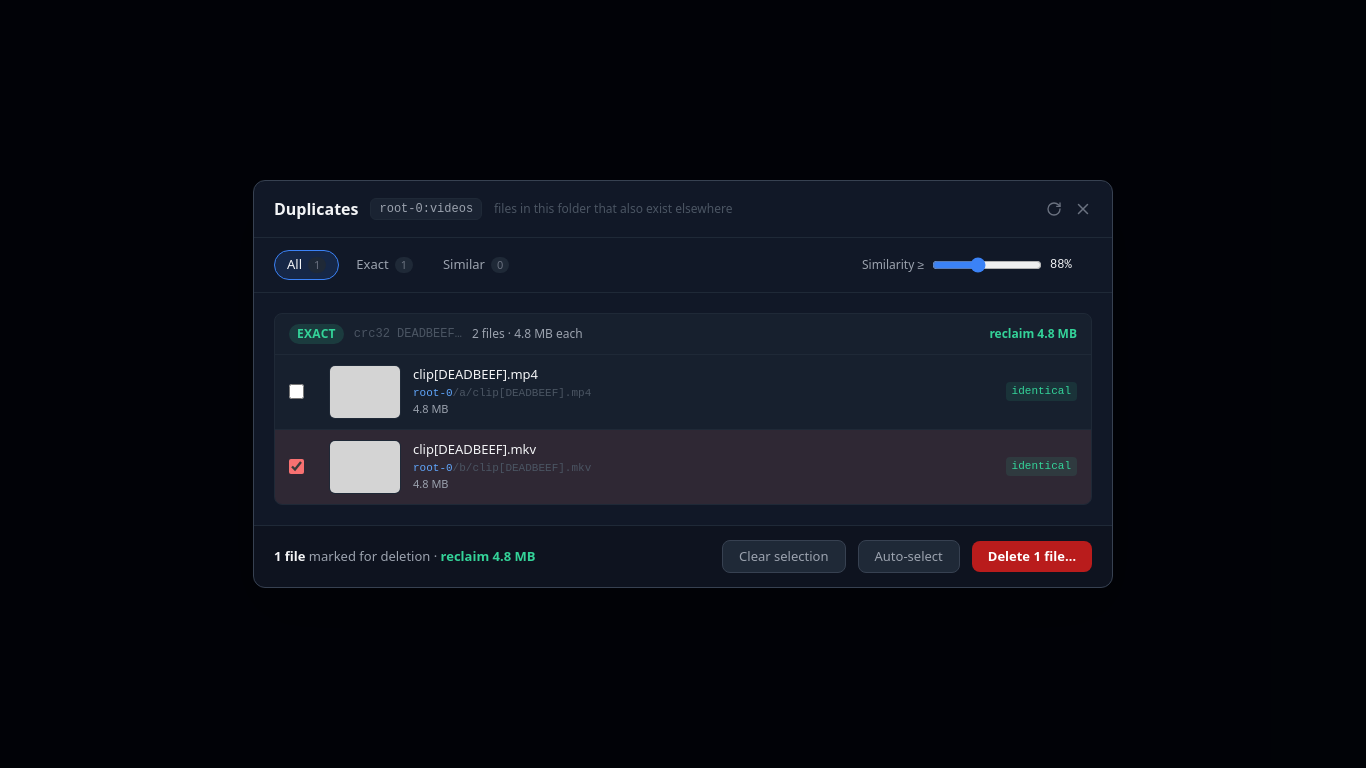
DuplicatesModal › shows CRC32 video groups under the Exact tab
Expected: the text "clip[DEADBEEF].mp4" is shown, x1=413 y1=365 x2=538 y2=383
Click the button "Exact 1": x=385, y=265 x1=343 y1=250 x2=426 y2=280
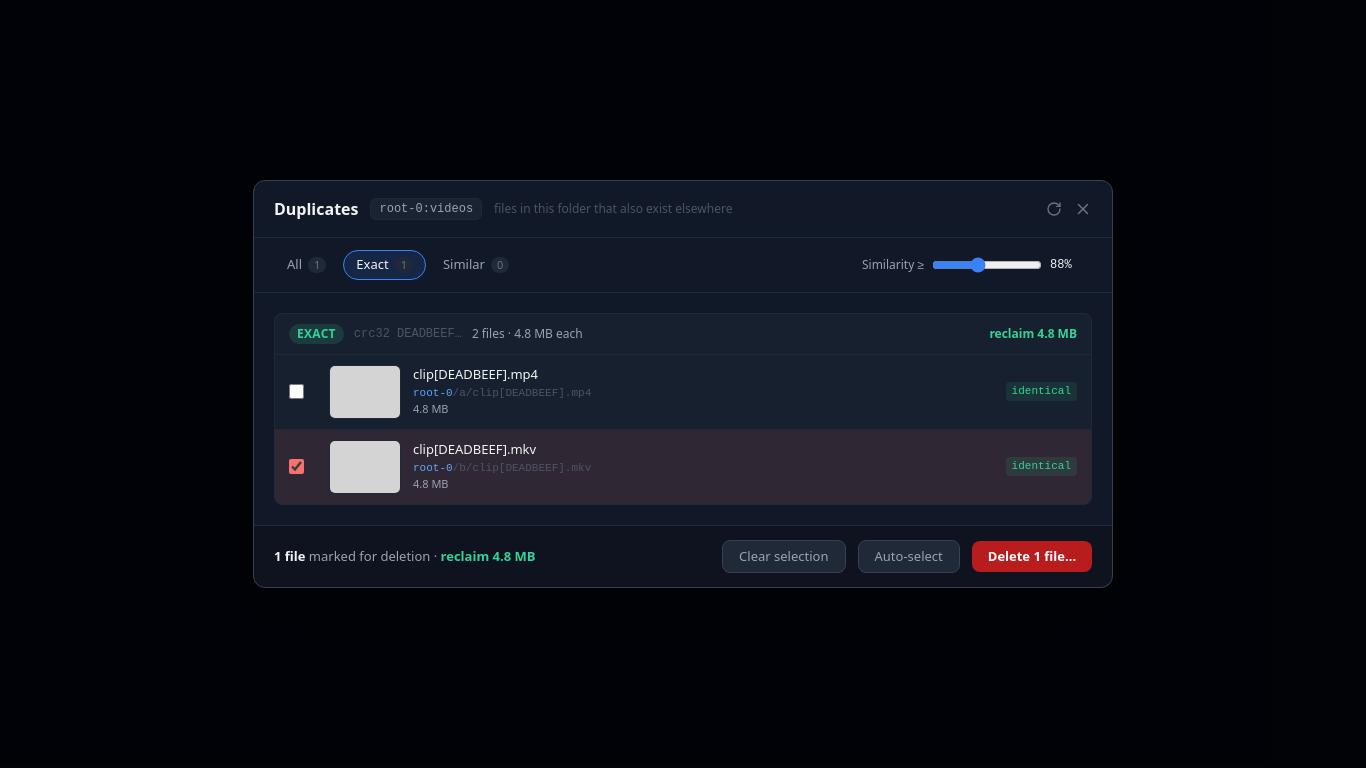
Expected: the text "clip[DEADBEEF].mp4" is shown, x1=413 y1=365 x2=538 y2=383
# Hidden under Similar.
Click the button "Similar 0": x=476, y=265 x1=430 y1=250 x2=522 y2=280
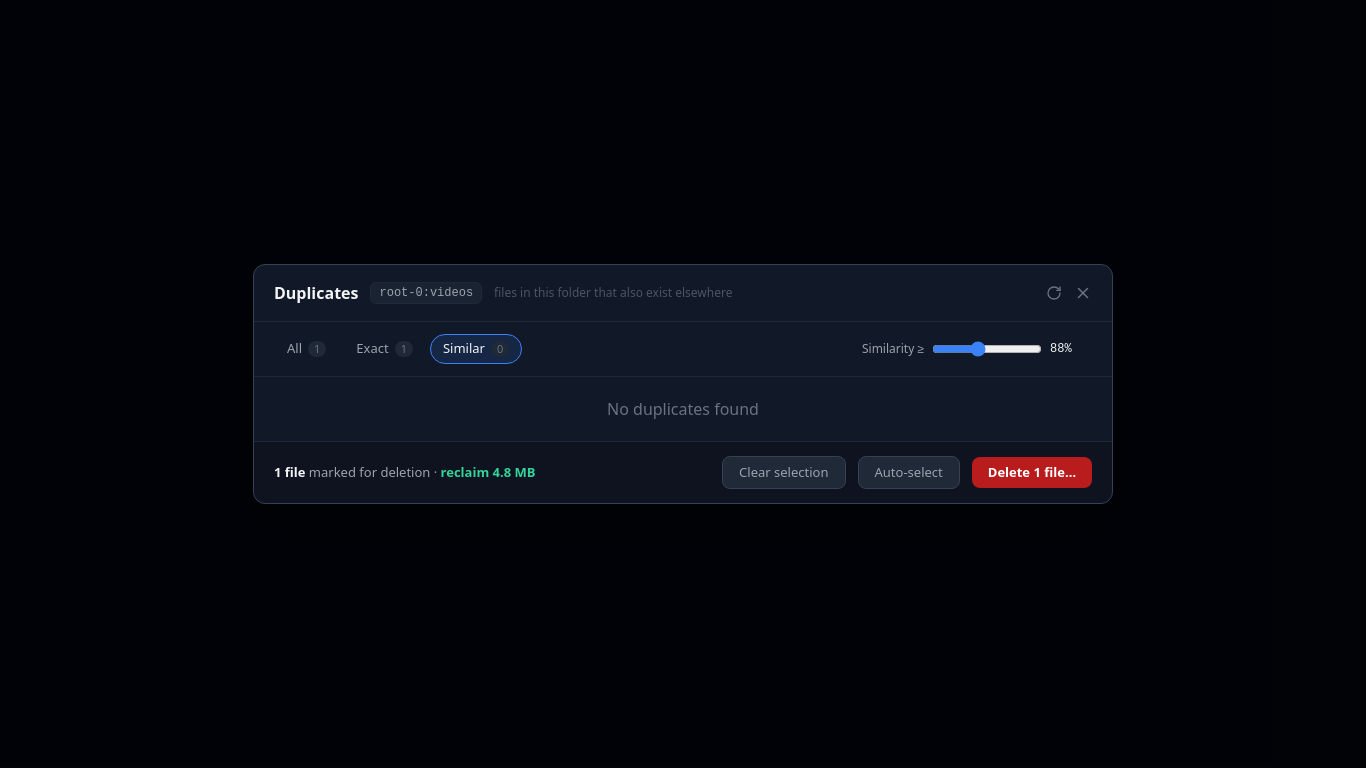
Expected: the text "clip[DEADBEEF].mp4" is gone
